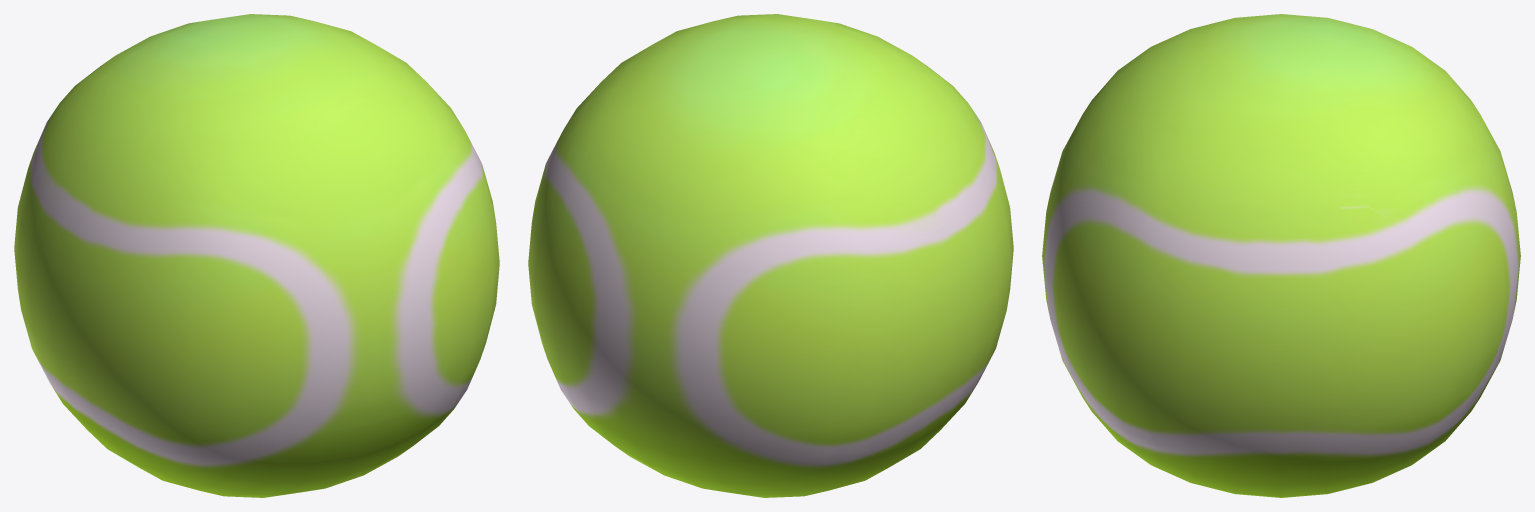
The model's file is Tennis_01.fbx.
3 views of the same model, side by side, from view 1: azimuth 30°, elevation 25°; view 2: azimuth 150°, elevation 25°; view 3: azimuth 270°, elevation 25° (orthographic).
Visible parts, largest first — view 1: geo_tennisball; view 2: geo_tennisball; view 3: geo_tennisball.
Part boxes in pixels (x1=…): geo_tennisball: x1=14, y1=14, x2=499, y2=497; geo_tennisball: x1=528, y1=14, x2=1013, y2=497; geo_tennisball: x1=1042, y1=14, x2=1520, y2=497.
Bounding box in the file's own units: 67.04 × 67.04 × 67.04.
Materials: 1 (1 with a texture image).
